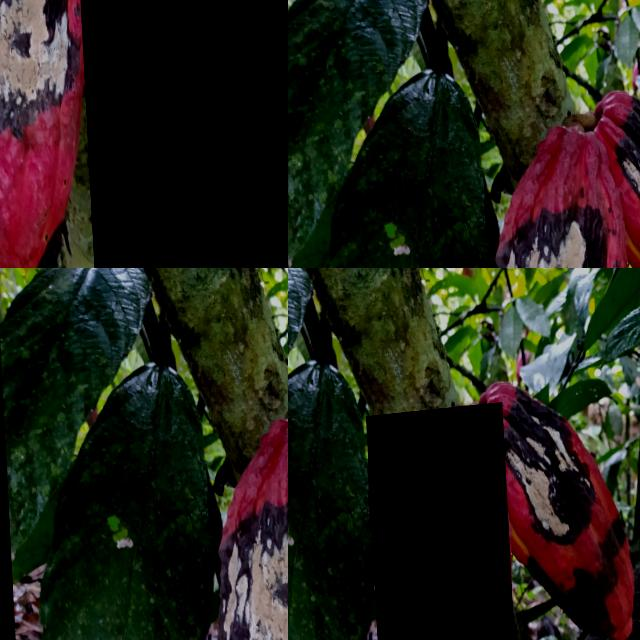Fitoftora: (68, 0, 288, 268)
Monilia: (483, 387, 633, 640), (364, 409, 517, 640)
Sana: (572, 156, 640, 268)
